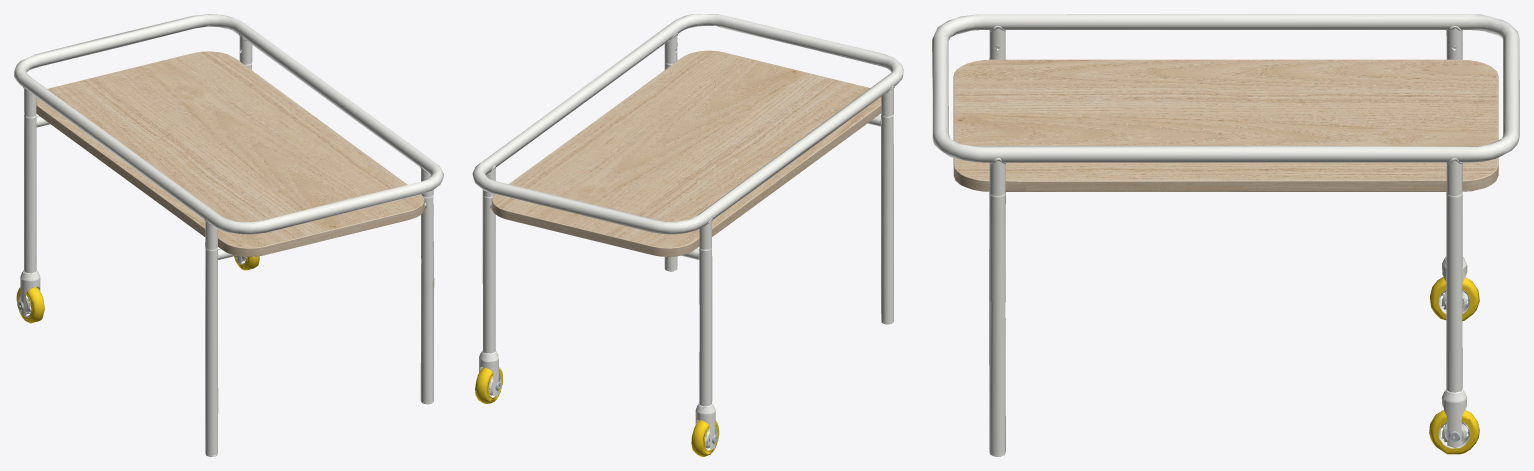
3 views of the same model, side by side, from view 1: azimuth 30°, elevation 25°; view 2: azimuth 150°, elevation 25°; view 3: azimuth 270°, elevation 25° (orthographic). The views are drawn at different scales.
Parts seen in each view (by area): view 1: ASY_ART_00586360_S01_NV01; view 2: ASY_ART_00586360_S01_NV01; view 3: ASY_ART_00586360_S01_NV01.
Boxes of the visible parts, x1,y1,x2,y2 form: ASY_ART_00586360_S01_NV01: (14,14,443,456); ASY_ART_00586360_S01_NV01: (472,14,903,456); ASY_ART_00586360_S01_NV01: (932,14,1519,456).
Bounding box in the file's own units: 0.406 × 0.4011 × 0.695.
1 material, 1 textured.
